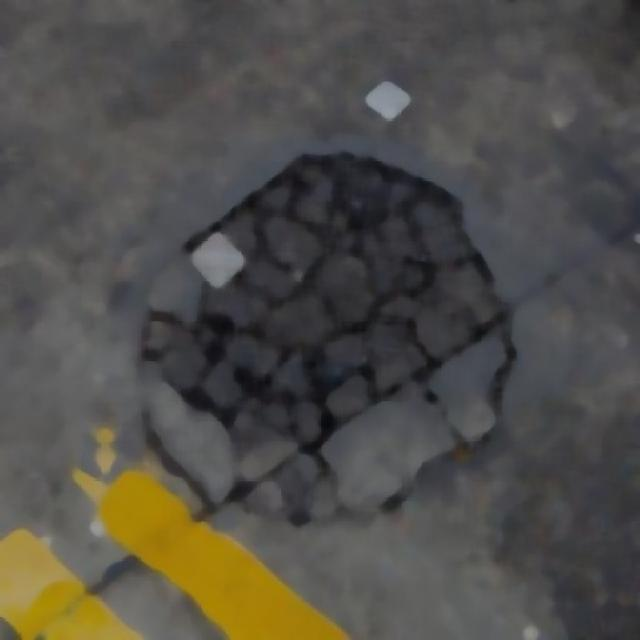Pothole: (134, 142, 515, 480)
